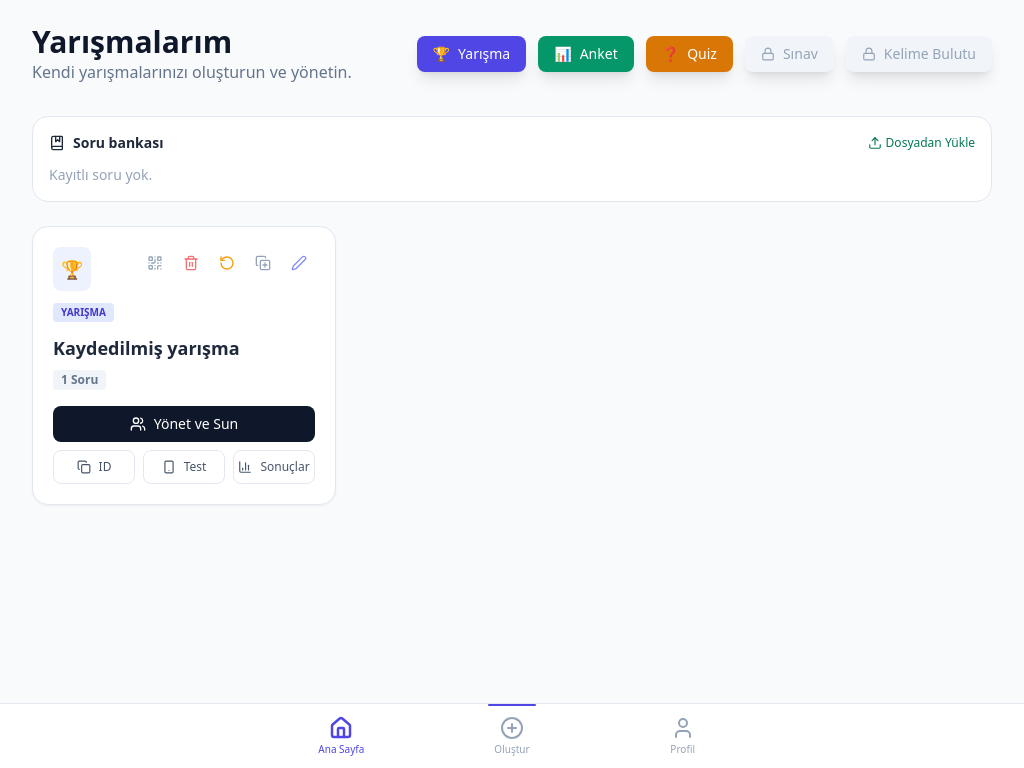
tab bar create flow › opens a blank create form from the Create tab
expect the heading "Kaydedilmiş yarışma" is shown: met, box [53,336,240,360]
Step 1. Click the button "Oluştur" → (512, 736), box [427,704,597,767]
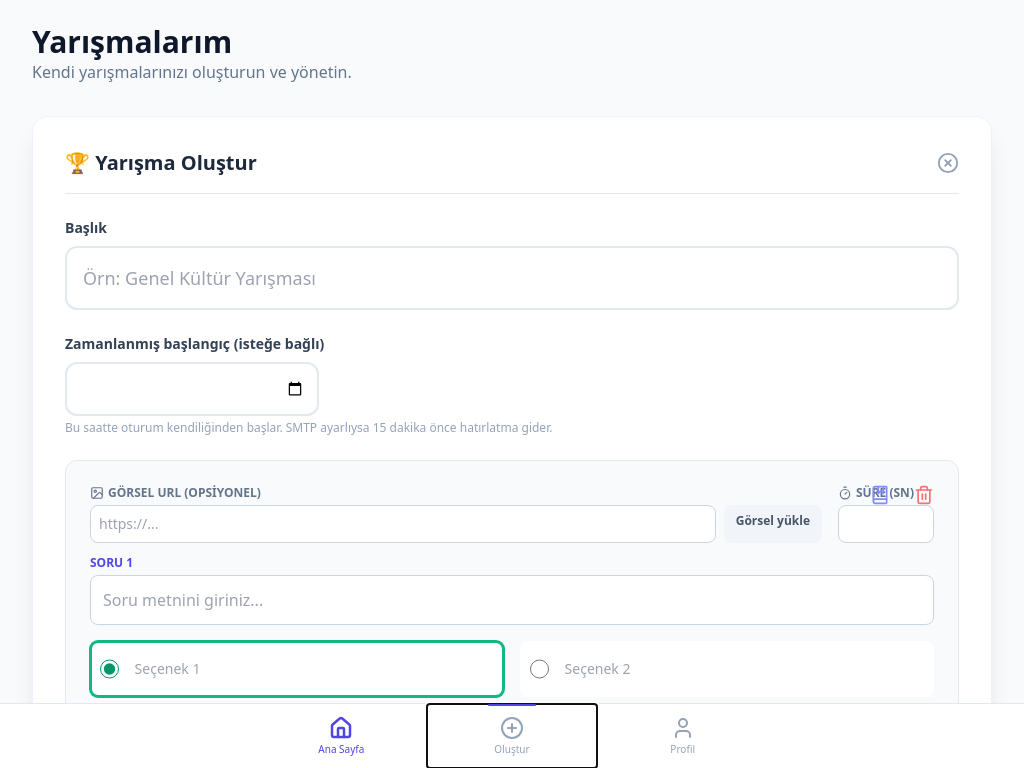
expect the heading "🏆 Yarışma Oluştur" is shown: met, box [65,149,257,177]
expect the field with placeholder "Örn: Genel Kültür Yarışması" is empty: met, box [65,246,959,310]
